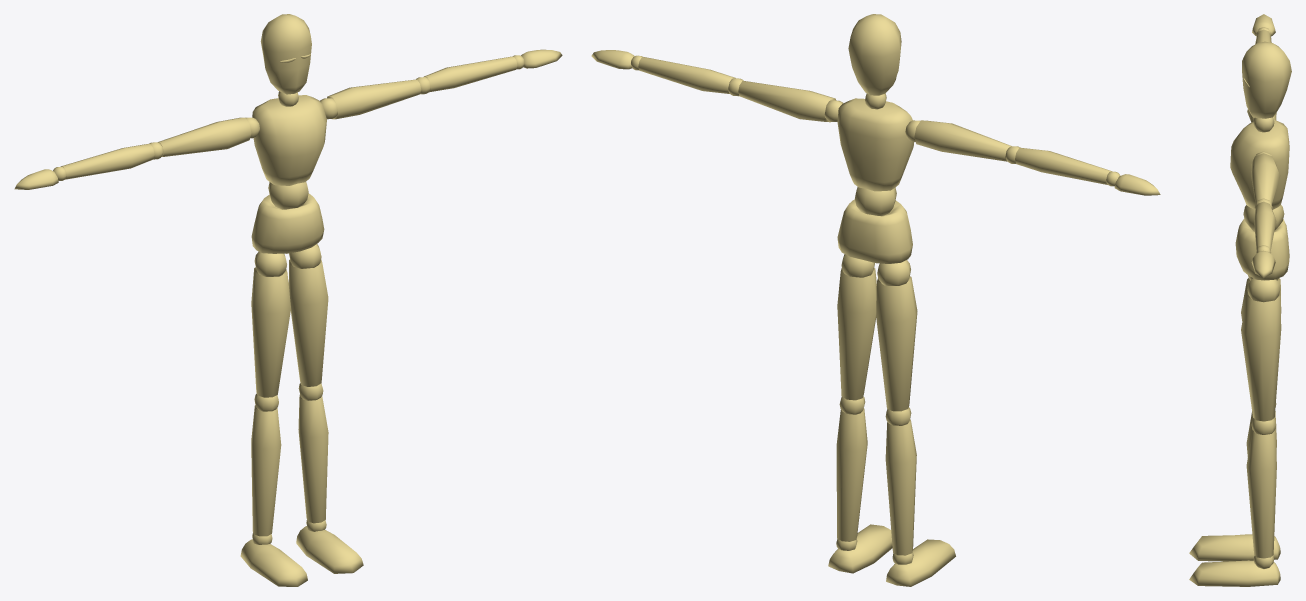
File: MannaquinBlink(1).dae
The picture shows the model from 3 angles, left to right: view 1: azimuth 30°, elevation 25°; view 2: azimuth 150°, elevation 25°; view 3: azimuth 270°, elevation 25°; orthographic projection. The views are drawn at different scales.
Parts seen in each view (by area): view 1: Cylinder_003, Cylinder_002, Cylinder_001, Cylinder_006, Sphere_001, Cylinder, Cylinder_007, Cylinder_004, Cylinder_009, Sphere_014, Sphere, Cylinder_005 (+2 smaller); view 2: Cylinder_003, Cylinder_002, Cylinder_001, Cylinder_006, Cylinder, Sphere_001, Cylinder_007, Cylinder_004, Cylinder_009, Sphere, Sphere_014, Cylinder_005 (+3 smaller); view 3: Cylinder_006, Cylinder_003, Cylinder_007, Sphere_001, Cylinder_002, Sphere_014, Sphere, Cylinder_009, Cylinder_008, Sphere_016, Sphere_009, Cylinder_001 (+2 smaller).
Boxes of the visible parts, x1,y1,x2,y2 form: Cylinder_003: [245, 91, 337, 185]; Cylinder_002: [251, 182, 324, 276]; Cylinder_001: [251, 267, 290, 411]; Cylinder_006: [288, 259, 328, 400]; Sphere_001: [260, 14, 311, 94]; Cylinder: [251, 405, 281, 536]; Cylinder_007: [298, 394, 328, 523]; Cylinder_004: [149, 117, 251, 159]; Cylinder_009: [327, 77, 430, 119]; Sphere_014: [296, 520, 363, 573]; Sphere: [240, 533, 307, 586]; Cylinder_005: [60, 144, 154, 179]; Cylinder_003: [824, 93, 920, 191]; Cylinder_002: [837, 187, 912, 285]; Cylinder_001: [876, 276, 917, 425]; Cylinder_006: [837, 268, 876, 414]; Cylinder: [885, 419, 916, 555]; Sphere_001: [848, 14, 901, 95]; Cylinder_007: [836, 408, 867, 541]; Cylinder_004: [914, 120, 1020, 163]; Cylinder_009: [728, 78, 835, 122]; Sphere: [886, 539, 955, 586]; Sphere_014: [828, 524, 892, 573]; Cylinder_005: [1015, 148, 1112, 184]; Cylinder_006: [1241, 294, 1281, 434]; Cylinder_003: [1230, 117, 1289, 209]; Cylinder_007: [1246, 430, 1276, 558]; Sphere_001: [1242, 41, 1291, 118]; Cylinder_002: [1235, 205, 1289, 302]; Sphere_014: [1189, 555, 1280, 586]; Sphere: [1189, 534, 1280, 561]; Cylinder_009: [1251, 153, 1280, 208]; Cylinder_008: [1254, 201, 1276, 250]; Sphere_016: [1251, 245, 1275, 278]; Sphere_009: [1252, 14, 1275, 36]; Cylinder_001: [1241, 278, 1281, 406].
Bounding box in the file's own units: 14.87 × 2.47 × 13.89.
